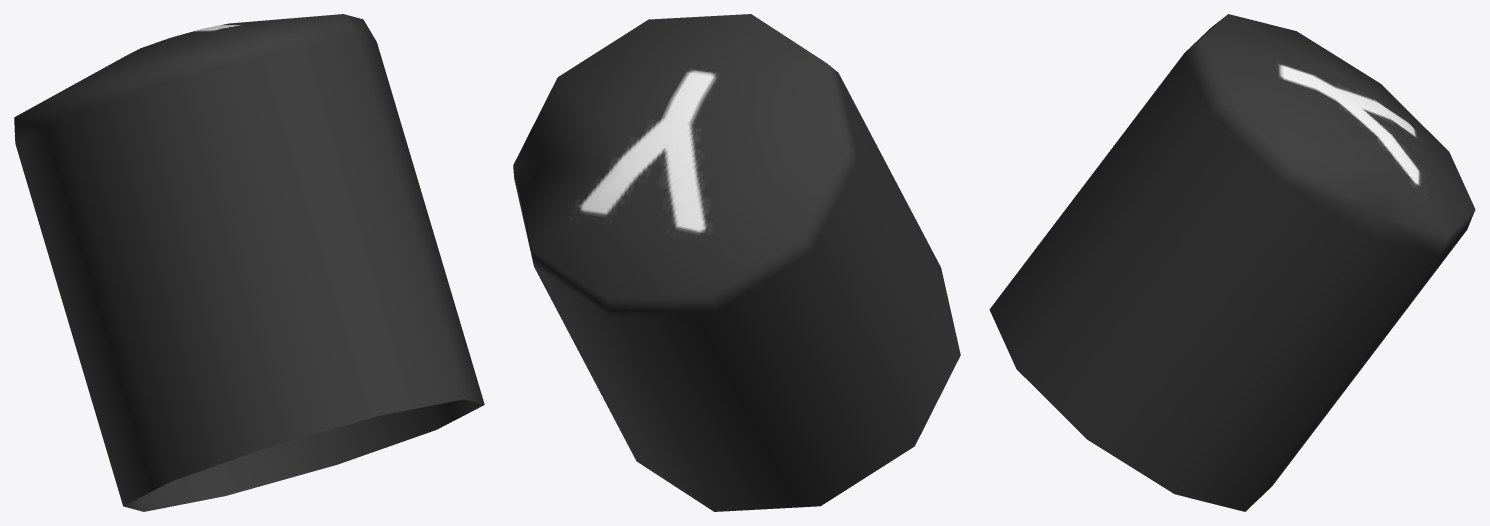
The model's file is crystal_controller_left_button5.obj.
The picture shows the model from 3 angles, left to right: view 1: azimuth 30°, elevation 25°; view 2: azimuth 150°, elevation 25°; view 3: azimuth 270°, elevation 25°; orthographic projection. The views are drawn at different scales.
Parts seen in each view (by area): view 1: crystal_controller_left_button5; view 2: crystal_controller_left_button5; view 3: crystal_controller_left_button5.
Part boxes in pixels (x1,y1,x2,y2): crystal_controller_left_button5: [14, 14, 484, 511]; crystal_controller_left_button5: [513, 14, 960, 511]; crystal_controller_left_button5: [989, 14, 1475, 511].
Size of the model in its own units: 0.00956 by 0.0144 by 0.0142.
Materials: 1 (1 with a texture image).
